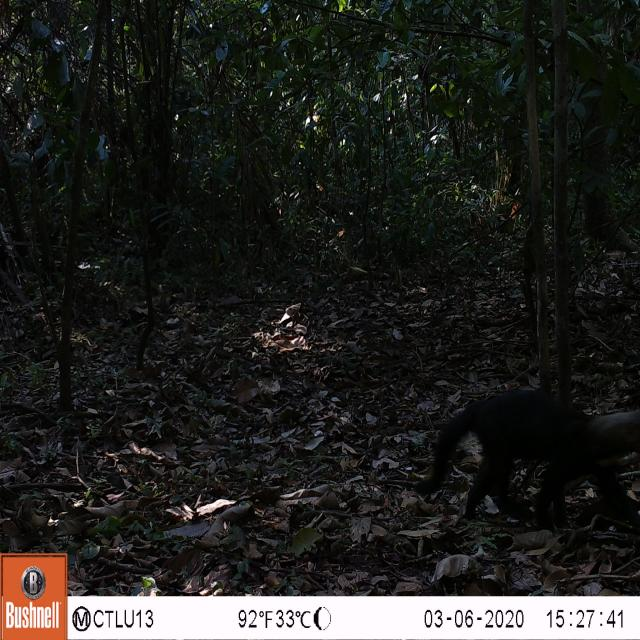Tayra: (402, 370, 640, 502)
